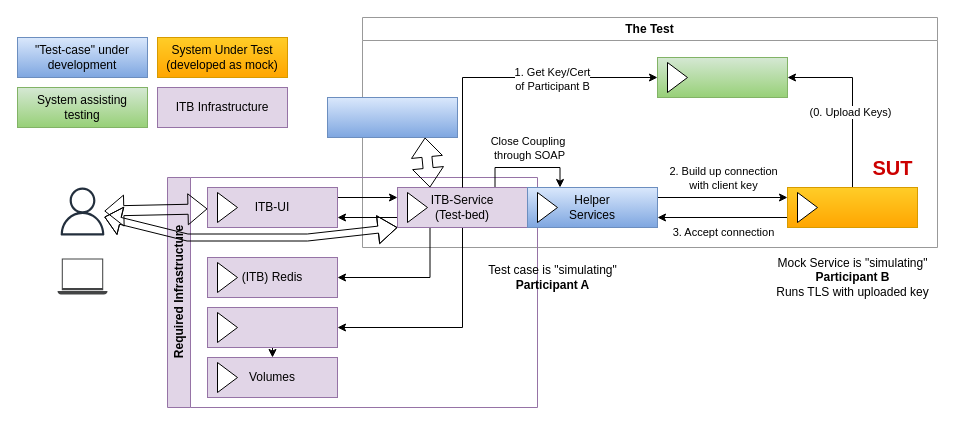
The diagram is 960 pixels wide and 425 high, and some of its shapes have lost their labels. Here are the shapes that lost their labels. From the top down, the box of each, then its label:
(656, 56, 788, 98): Trust Network (anywhere)
(326, 96, 458, 138): Test-case running in ITB test-bed
(58, 187, 106, 235): Tester
(786, 186, 918, 228): "Participant B" Mock Service
(206, 306, 338, 348): (ITB) MySQL
